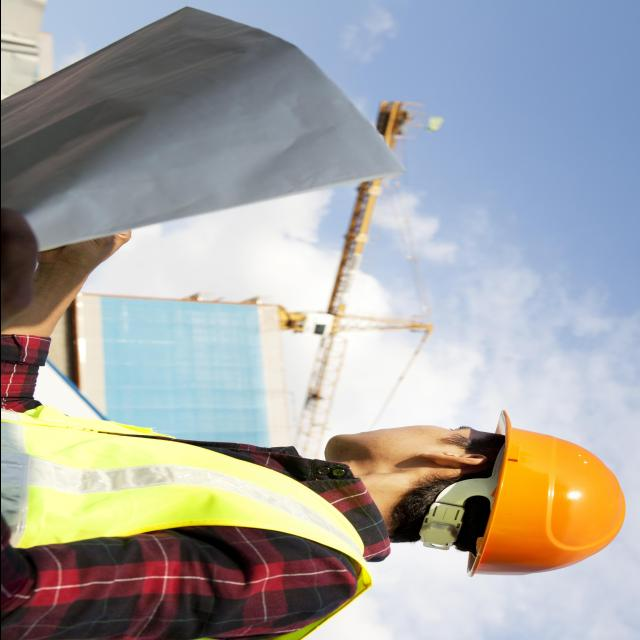helmet: (452, 404, 630, 590)
